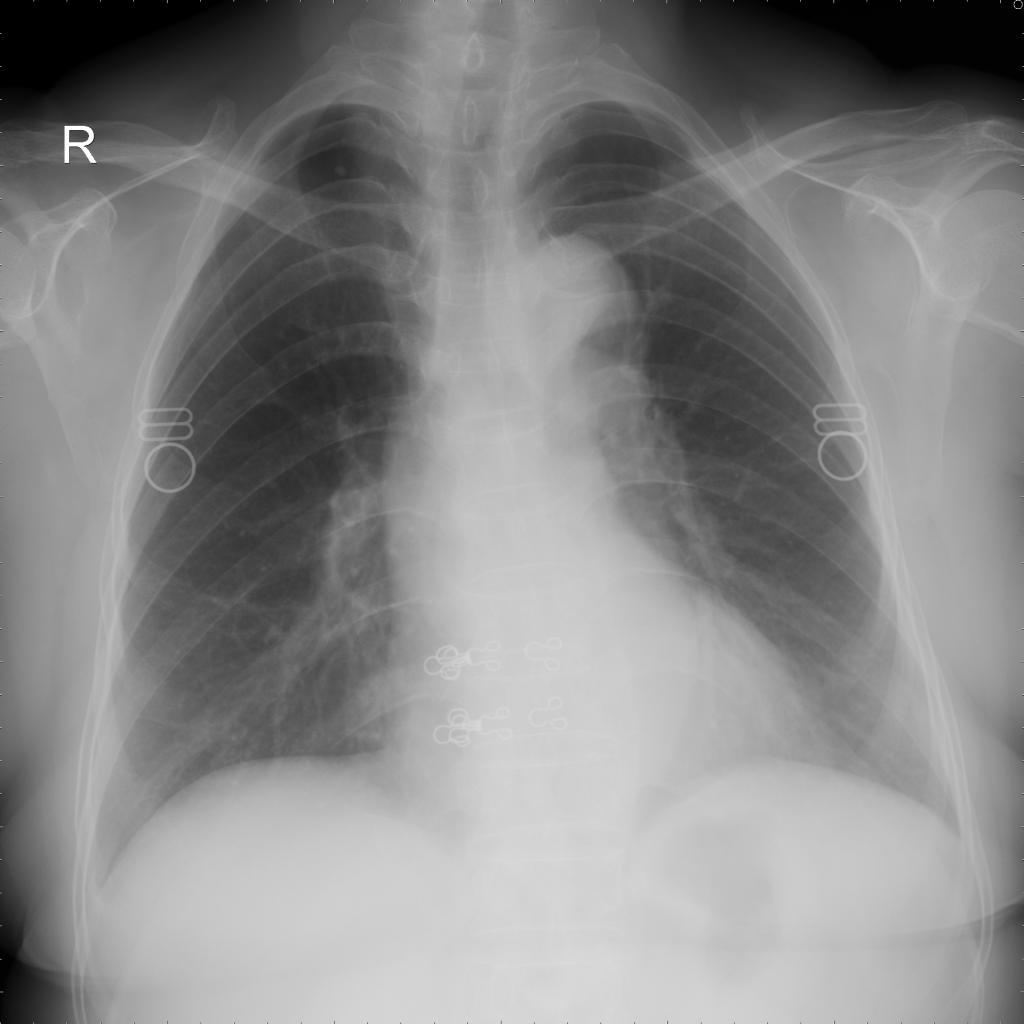Nodule: (333, 164, 349, 177)
